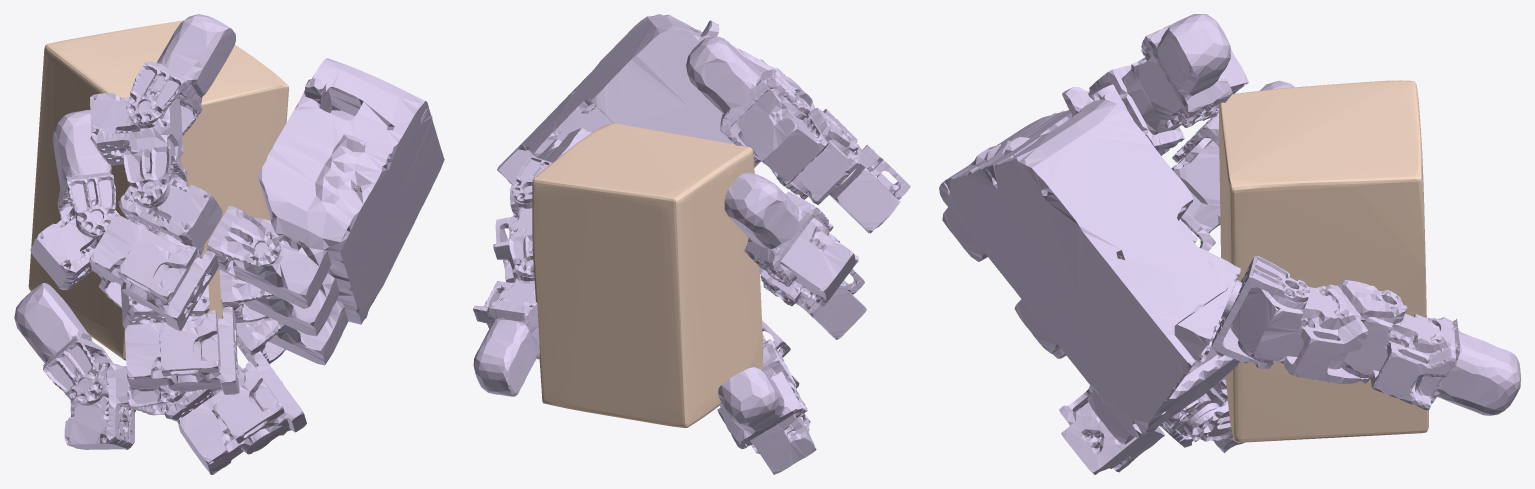
The model's file is 078c85c5cd4588-closed.glb.
3 views of the same model, side by side, from view 1: azimuth 30°, elevation 25°; view 2: azimuth 150°, elevation 25°; view 3: azimuth 270°, elevation 25° (orthographic). The views are drawn at different scales.
Visible parts, largest first — view 1: LEAP_hand, world; view 2: LEAP_hand, world; view 3: LEAP_hand, world.
Part boxes in pixels (x1=…): LEAP_hand: x1=14, y1=14, x2=444, y2=474; world: x1=28, y1=20, x2=288, y2=360; LEAP_hand: x1=473, y1=14, x2=910, y2=474; world: x1=532, y1=123, x2=762, y2=427; LEAP_hand: x1=939, y1=14, x2=1520, y2=474; world: x1=1218, y1=80, x2=1428, y2=442.
Bounding box in the file's own units: 0.1925 × 0.1992 × 0.2223.
